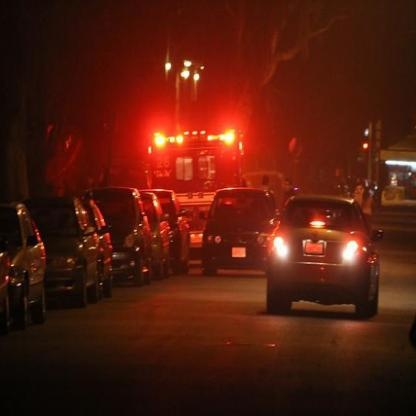other: (136, 123, 247, 154), (154, 53, 208, 88), (261, 221, 293, 268), (336, 231, 364, 270), (306, 210, 333, 234)
